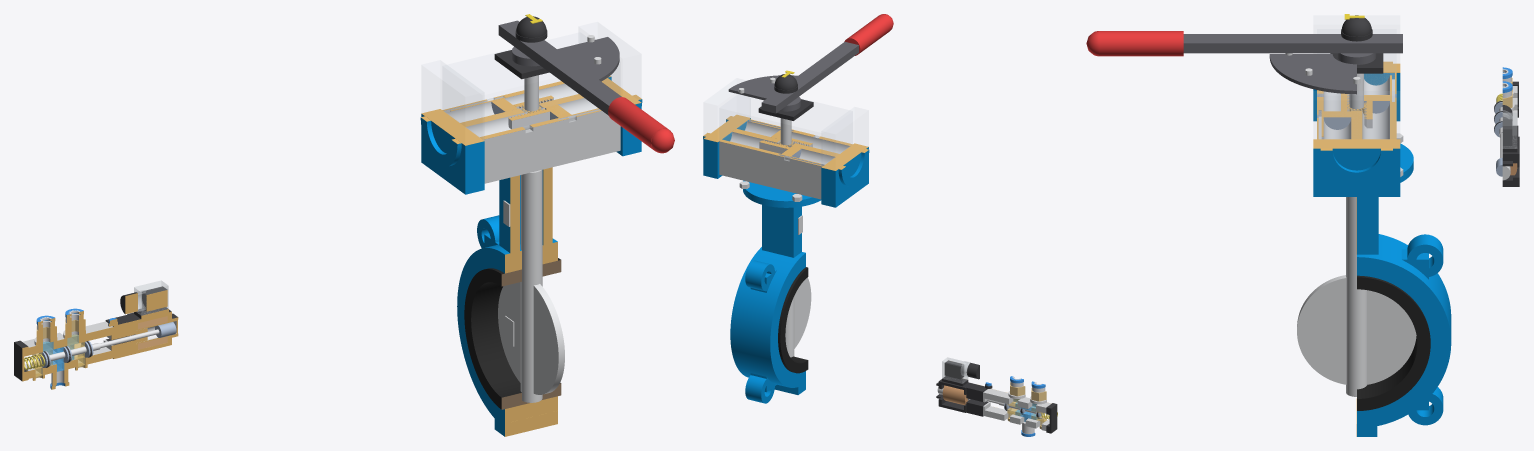
The model's file is cena_pneumatica_corte.glb.
3 renders of one model, left to right at view 1: azimuth 30°, elevation 25°; view 2: azimuth 150°, elevation 25°; view 3: azimuth 270°, elevation 25°, orthographic. The views are drawn at different scales.
Parts seen in each view (by area): view 1: sede_borracha_EPDM, disco_inox, haste_inox, alavanca_haste, tampa_esq, corpo_wafer, corpo_nucleo, parede_frente_macica_0, parede_frente_ext_1, setor_travamento, corpo_wafer_corte, alavanca_cabo (+9 smaller); view 2: corpo_wafer, parede_tras_macica, corpo_nucleo, alavanca_haste, tampa_esq, orelha_centragem (×2), sede_borracha_EPDM, parede_tras_ext_0, flange_iso, alavanca_cabo, disco_inox, pescoco_esq (+11 smaller); view 3: disco_inox, corpo_wafer, alavanca_haste, sede_borracha_EPDM, haste_inox, tampa_dir, setor_travamento, alavanca_cabo, orelha_centragem (×2), corpo_nucleo, pescoco_tras, tampa_dir_boss (+6 smaller).
Boxes of the visible parts, x1,y1,x2,y2 form: sede_borracha_EPDM: (464,258,560,409); disco_inox: (498,282,564,394); haste_inox: (520,169,542,402); alavanca_haste: (510,32,621,115); tampa_esq: (421,114,484,194); corpo_wafer: (457,238,557,427); corpo_nucleo: (446,83,597,137); parede_frente_macica_0: (483,129,525,183); parede_frente_ext_1: (575,111,620,161); setor_travamento: (557,37,619,81); corpo_wafer_corte: (505,242,557,423); alavanca_cabo: (608,97,670,151); corpo_wafer: (730,247,805,387); parede_tras_macica: (719,141,778,188); corpo_nucleo: (730,121,849,165); alavanca_haste: (770,42,858,107); tampa_esq: (821,147,868,207); orelha_centragem (×2): (745,260,774,403); sede_borracha_EPDM: (778,267,808,373); parede_tras_ext_0: (789,158,822,199); flange_iso: (743,180,820,207); alavanca_cabo: (844,14,892,55); disco_inox: (794,277,811,348); pescoco_esq: (769,206,786,255); disco_inox: (1297,275,1416,384); corpo_wafer: (1357,234,1451,428); alavanca_haste: (1183,34,1380,53); sede_borracha_EPDM: (1357,275,1430,410); haste_inox: (1346,197,1366,396); tampa_dir: (1313,148,1400,196); setor_travamento: (1269,54,1356,94); alavanca_cabo: (1099,31,1183,56); orelha_centragem (×2): (1407,234,1443,425); corpo_nucleo: (1323,75,1389,139); pescoco_tras: (1357,197,1378,254); tampa_dir_boss: (1320,150,1392,183).
Size of the model in its own units: 0.497 by 0.3717 by 0.358.
